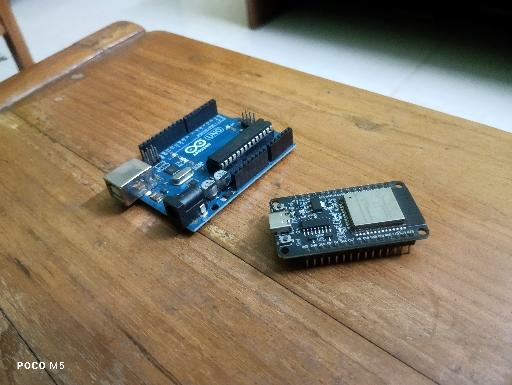Arduino: (103, 98, 297, 233)
Esp32: (269, 180, 429, 269)
